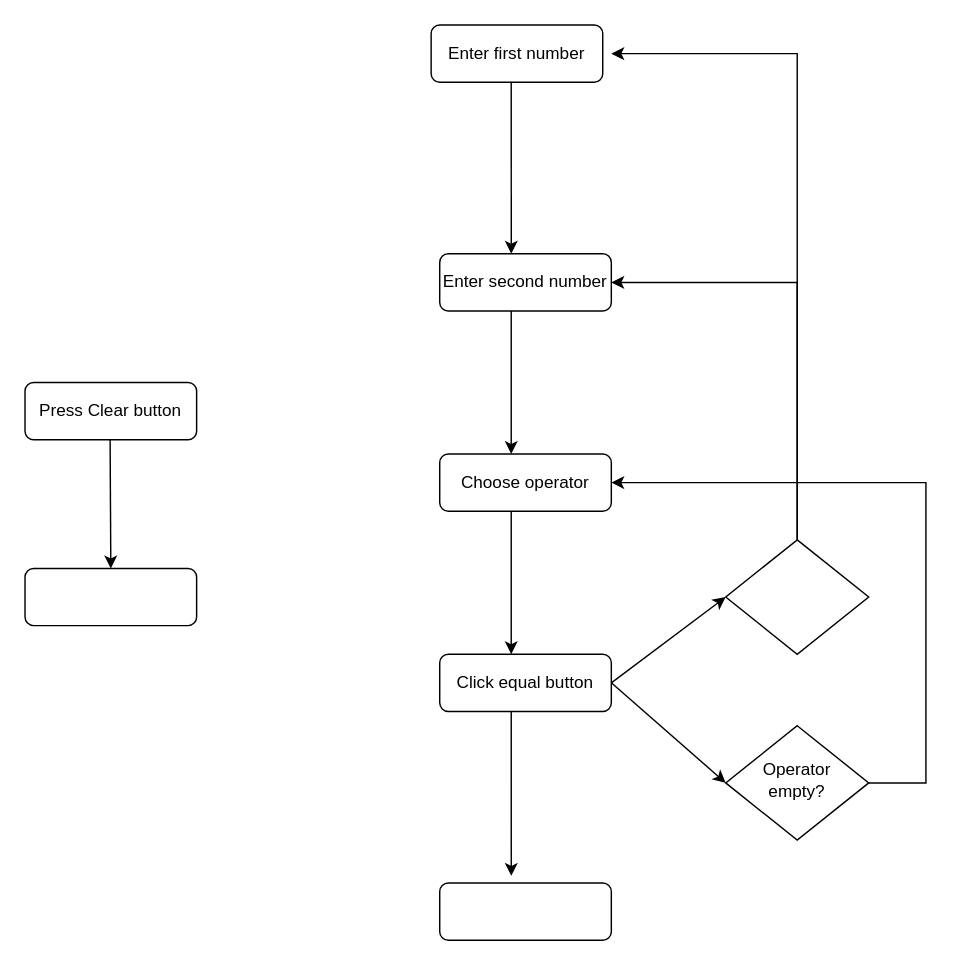
This 962x965 diagram has some shape labels left out. Here are the shapes that lost their labels. From the top down, the centre of each, then its label:
At pixel 110 596: "All fields cleared".
At pixel 796 596: "Either or both number empty?".
At pixel 524 911: "Result appear".
